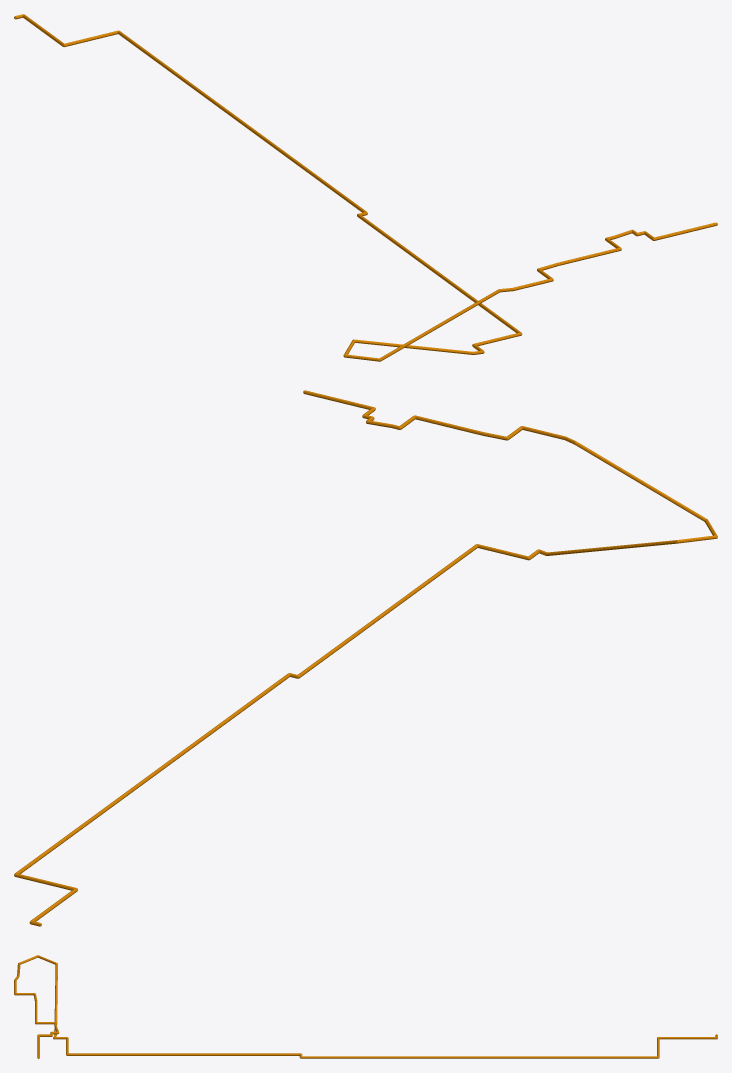
3 renders of one model, top to bottom at view 1: azimuth 30°, elevation 25°; view 2: azimuth 150°, elevation 25°; view 3: azimuth 270°, elevation 25°, orthographic. The views are drawn at different scales.
Bounding box in the file's own units: 2402 × 520 × 5420.
